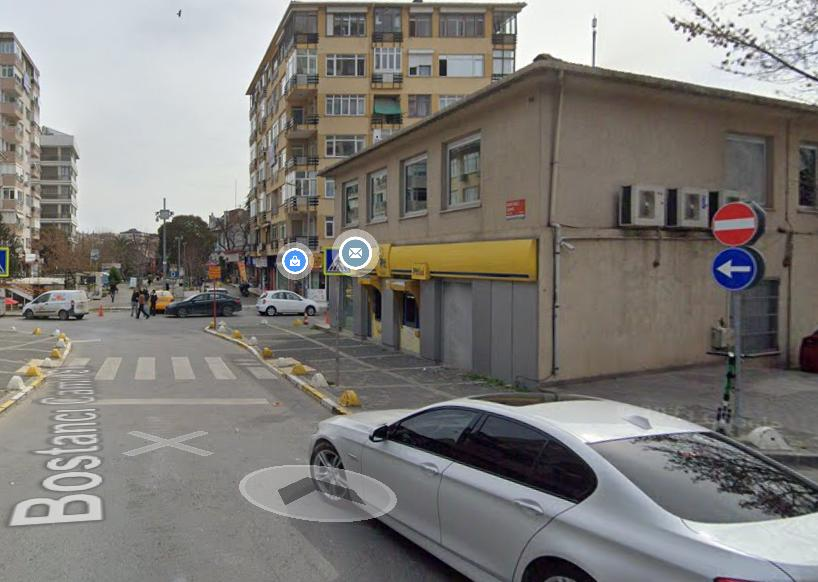turnleft: (710, 246, 760, 292)
